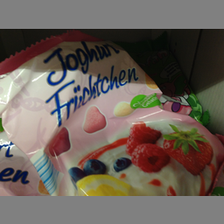candy: (1, 34, 222, 195)
